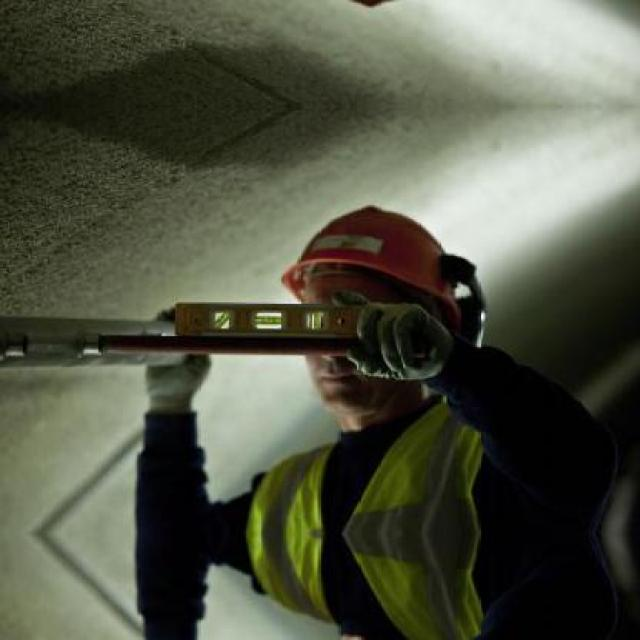helmet: (262, 182, 482, 418)
